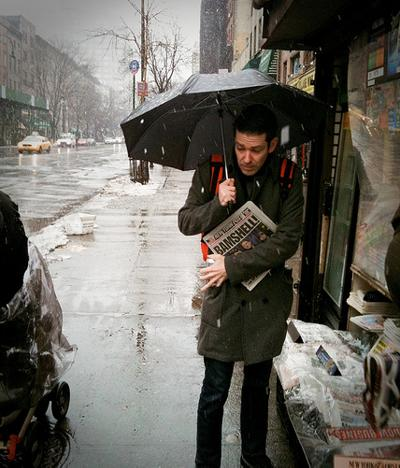person: (179, 110, 302, 467)
